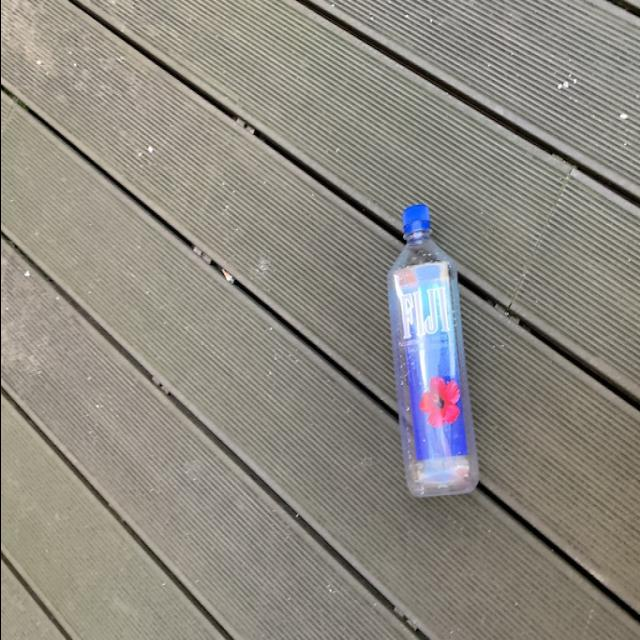litter: (383, 200, 481, 502)
